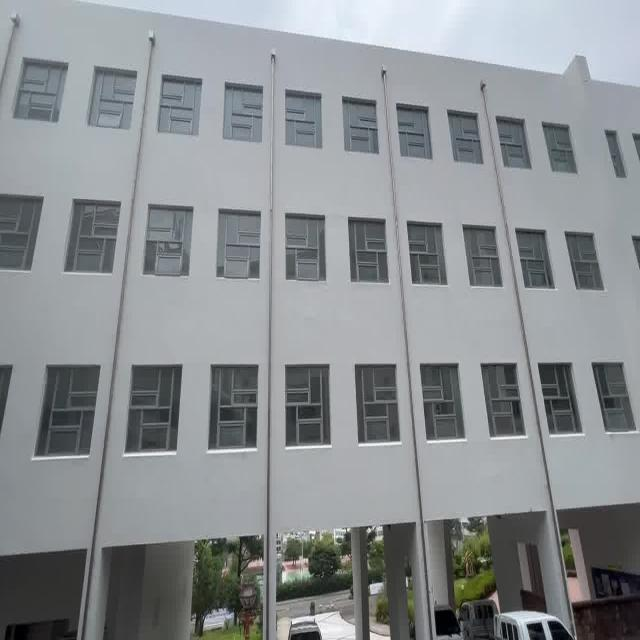building: (4, 16, 624, 502)
